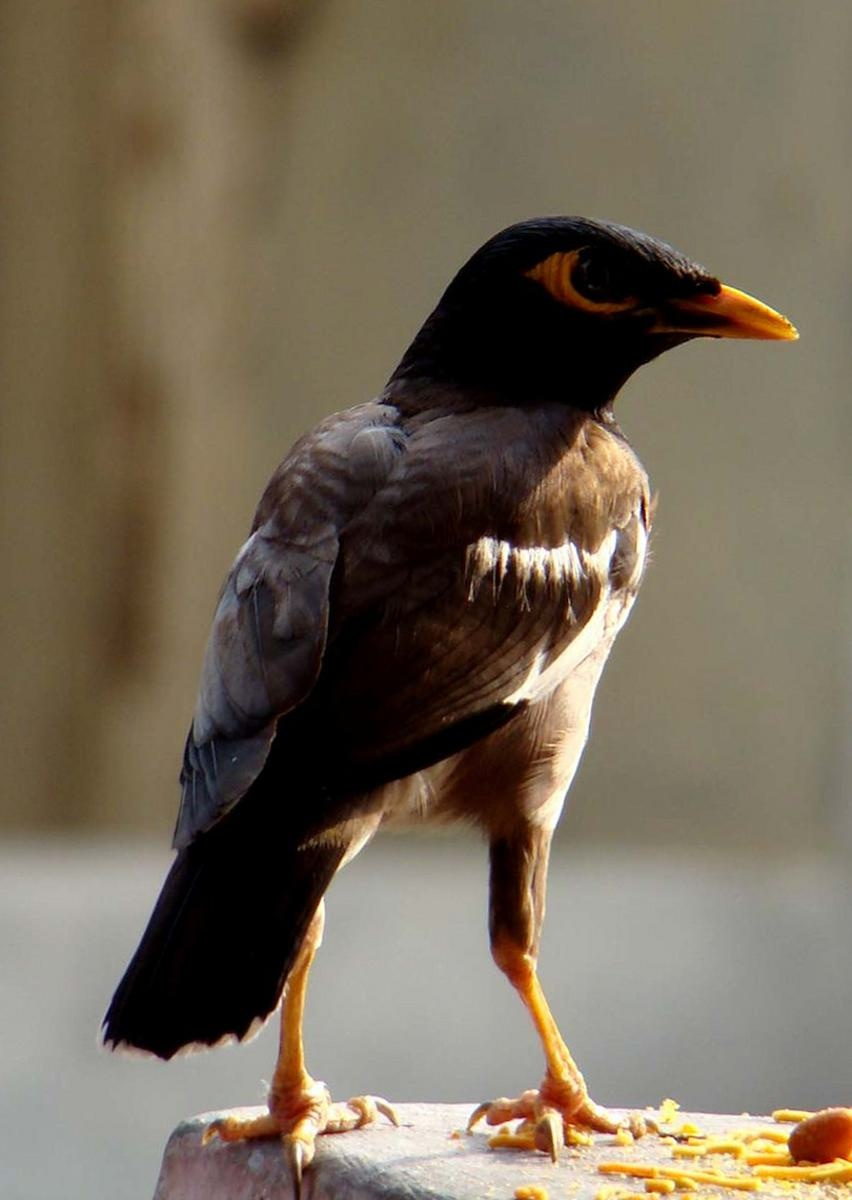myna: (1, 199, 826, 1059)
